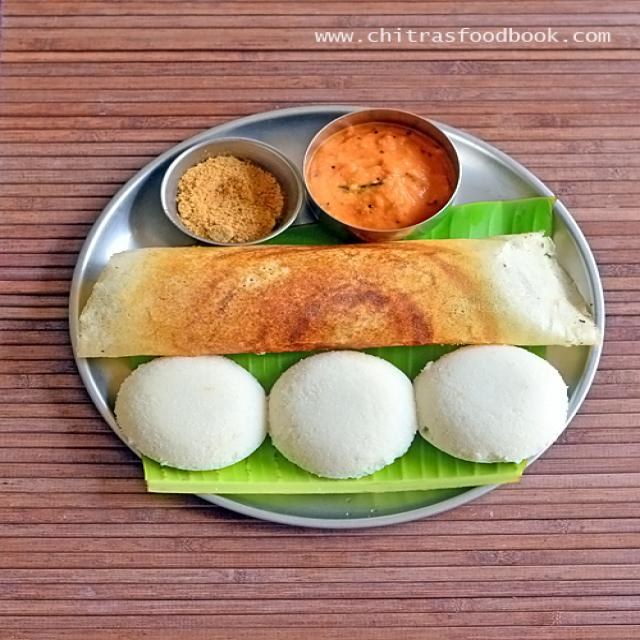DOSA: (76, 240, 595, 355)
IDLI: (411, 344, 566, 461), (268, 351, 413, 476), (114, 357, 265, 470)
